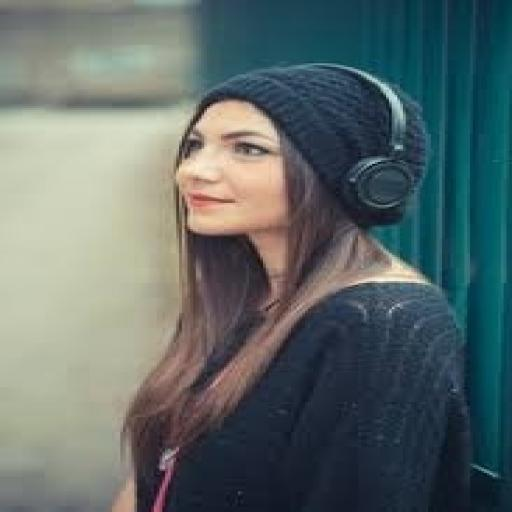listening_to_music: (104, 60, 476, 510)
